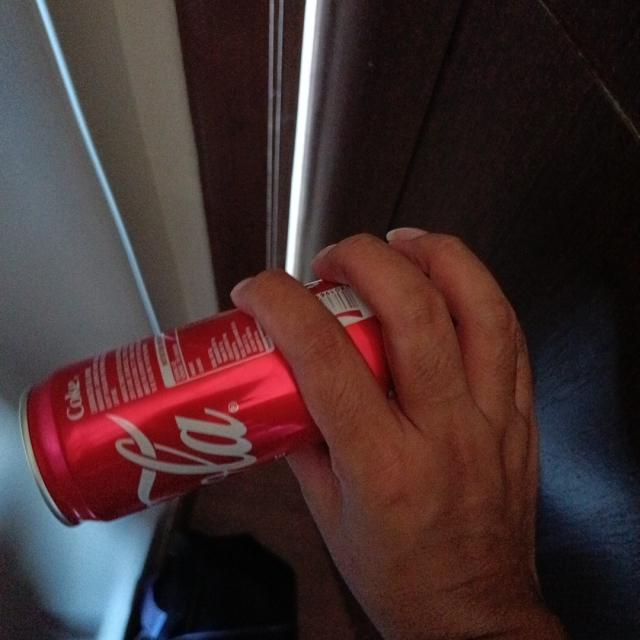coke: (18, 268, 387, 526)
